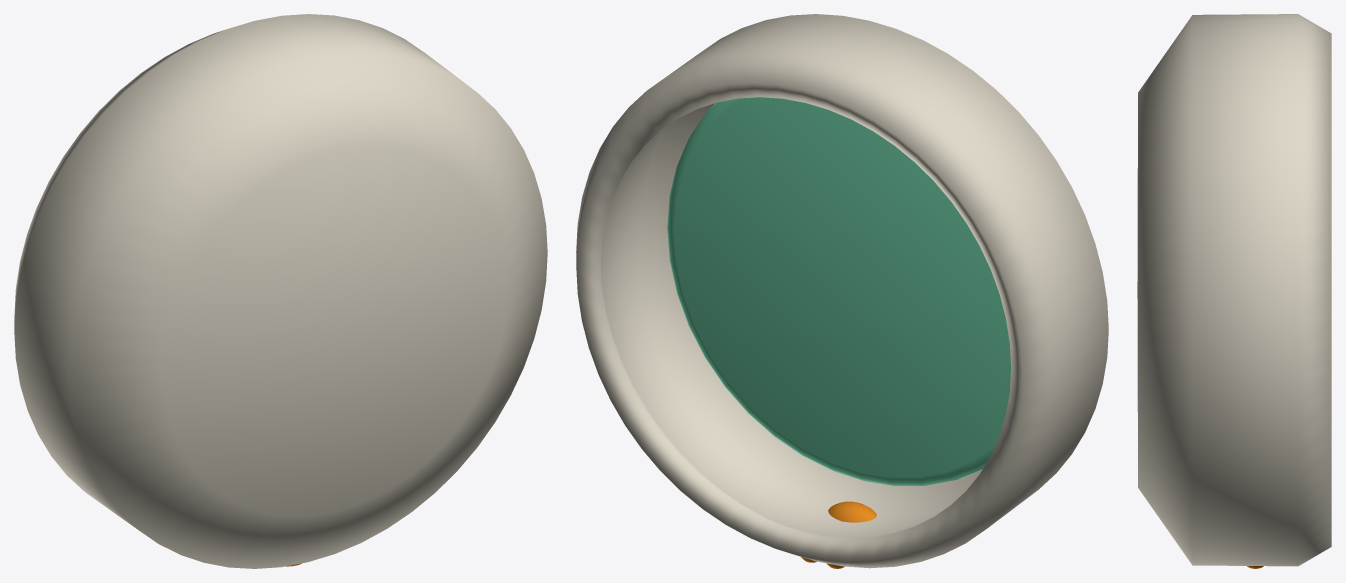
The model's file is MainFoodBowl_Premium.fbx.
The picture shows the model from 3 angles, left to right: view 1: azimuth 30°, elevation 25°; view 2: azimuth 150°, elevation 25°; view 3: azimuth 270°, elevation 25°; orthographic projection.
Visible parts, largest first — view 1: MainFoodBowl; view 2: MainFoodBowl; view 3: MainFoodBowl.
Boxes of the visible parts, bbox=[...] form: MainFoodBowl: bbox=[14, 14, 547, 568]; MainFoodBowl: bbox=[576, 14, 1108, 568]; MainFoodBowl: bbox=[1137, 14, 1331, 568].
Size of the model in its own units: 0.2736 by 0.2808 by 0.0961.
